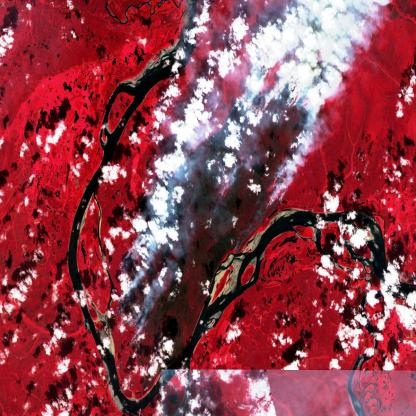fire: (214, 52, 325, 229), (102, 208, 170, 376)
